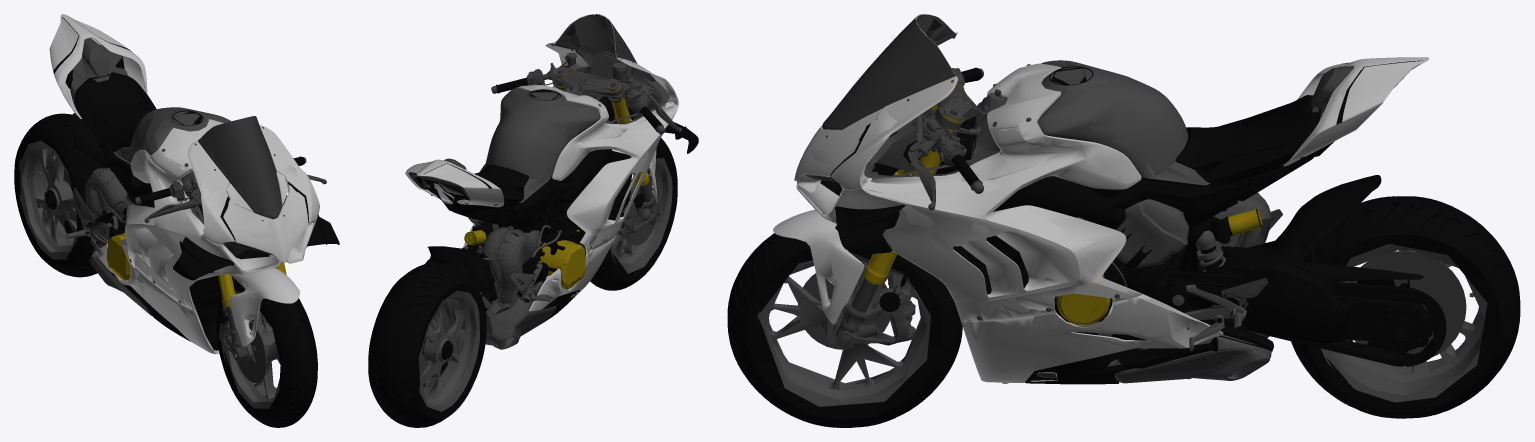
File: ducati_panigale_v4r.glb
The picture shows the model from 3 angles, left to right: view 1: azimuth 30°, elevation 25°; view 2: azimuth 150°, elevation 25°; view 3: azimuth 270°, elevation 25°; orthographic projection. The views are drawn at different scales.
Parts seen in each view (by area): view 1: body_7 (×2), spin (×4), body_11, body_0 (×2), body_4 (×2), body_8 (×2), body_6 (×2), body_12 (×2), body_10, body_13 (×2), body_14, body_9 (+2 smaller); view 2: spin (×4), body_7 (×2), body_12 (×2), body_4 (×2), body_8 (×2), body_10, body_13 (×2), body_11 (×2), body_14, body_9 (×2), body_0 (×2), body_6 (+1 smaller); view 3: body_7 (×2), spin (×4), body_4 (×2), body_12 (×2), body_13 (×2), body_8 (×2), body_9 (×2), body_11, body_0 (×2), body_10, body_3 (×2), body_6 (×2) (+2 smaller).
Boxes of the visible parts, x1=… form: body_7 (×2): x1=49, y1=14, x2=319, y2=354; spin (×4): x1=14, y1=113, x2=317, y2=427; body_11: x1=65, y1=82, x2=282, y2=330; body_0 (×2): x1=75, y1=72, x2=156, y2=150; body_4 (×2): x1=65, y1=56, x2=286, y2=350; body_8 (×2): x1=70, y1=38, x2=326, y2=303; body_6 (×2): x1=111, y1=214, x2=339, y2=341; body_12 (×2): x1=113, y1=107, x2=230, y2=163; body_10: x1=85, y1=167, x2=152, y2=316; body_13 (×2): x1=71, y1=70, x2=203, y2=188; body_14: x1=106, y1=233, x2=286, y2=307; body_9: x1=65, y1=157, x2=306, y2=256; spin (×4): x1=368, y1=138, x2=677, y2=427; body_7 (×2): x1=405, y1=14, x2=678, y2=311; body_12 (×2): x1=482, y1=88, x2=600, y2=201; body_4 (×2): x1=423, y1=96, x2=649, y2=311; body_8 (×2): x1=425, y1=44, x2=682, y2=256; body_10: x1=482, y1=224, x2=556, y2=349; body_13 (×2): x1=416, y1=89, x2=571, y2=291; body_11 (×2): x1=408, y1=14, x2=667, y2=202; body_14: x1=464, y1=72, x2=649, y2=289; body_9 (×2): x1=430, y1=52, x2=665, y2=308; body_0 (×2): x1=474, y1=164, x2=528, y2=199; body_6: x1=543, y1=122, x2=698, y2=318; body_7 (×2): x1=773, y1=14, x2=1429, y2=383; spin (×4): x1=727, y1=196, x2=1520, y2=427; body_4 (×2): x1=820, y1=116, x2=1425, y2=368; body_12 (×2): x1=1037, y1=60, x2=1210, y2=185; body_13 (×2): x1=1049, y1=66, x2=1423, y2=285; body_8 (×2): x1=826, y1=36, x2=1354, y2=329; body_9 (×2): x1=944, y1=68, x2=1282, y2=350; body_11: x1=805, y1=14, x2=1409, y2=312; body_0 (×2): x1=1176, y1=95, x2=1318, y2=181; body_10: x1=1037, y1=192, x2=1271, y2=383; body_3 (×2): x1=1167, y1=270, x2=1446, y2=366; body_6 (×2): x1=835, y1=204, x2=1142, y2=384.
Size of the model in its own units: 0.7841 by 1.19 by 2.11.
